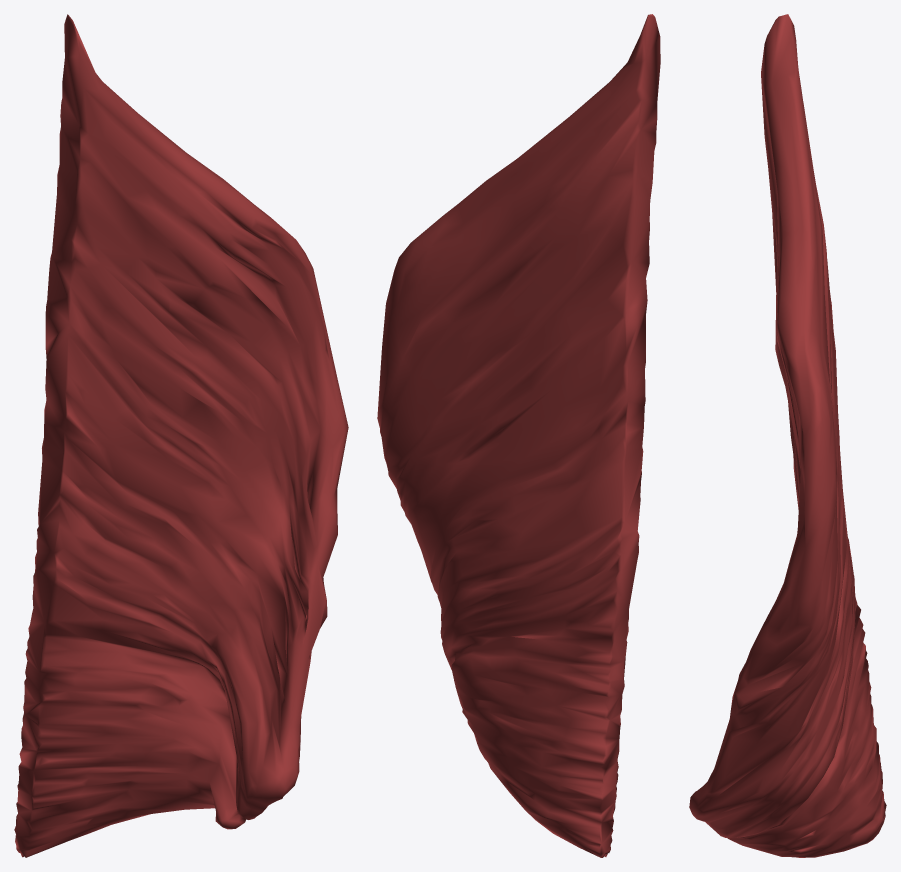
File: inferior-pharyngeal-constrictor-l.glb
3 views of the same model, side by side, from view 1: azimuth 30°, elevation 25°; view 2: azimuth 150°, elevation 25°; view 3: azimuth 270°, elevation 25° (orthographic). The views are drawn at different scales.
Parts seen in each view (by area): view 1: Inferior pharyngeal constrictor.l; view 2: Inferior pharyngeal constrictor.l; view 3: Inferior pharyngeal constrictor.l.
Boxes of the visible parts, x1,y1,x2,y2 form: Inferior pharyngeal constrictor.l: (14,14,348,857); Inferior pharyngeal constrictor.l: (377,14,660,857); Inferior pharyngeal constrictor.l: (689,14,886,857).
Bounding box in the file's own units: 0.022 × 0.0651 × 0.0143.
